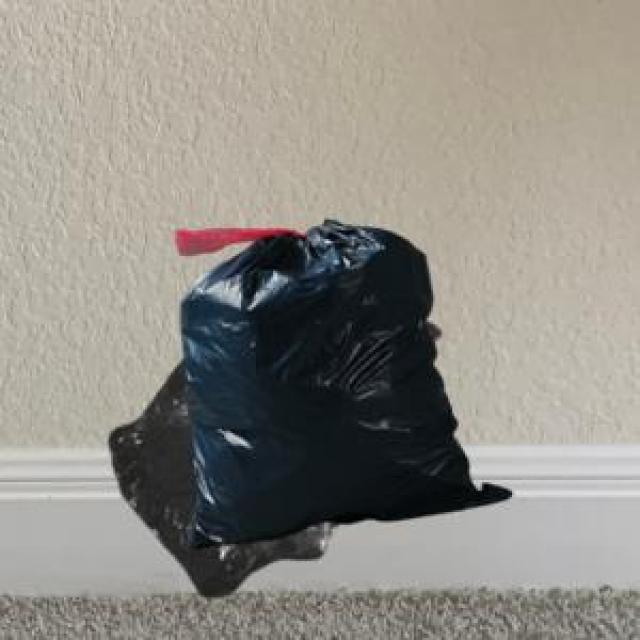miscellaneous trash: (171, 216, 508, 544)
